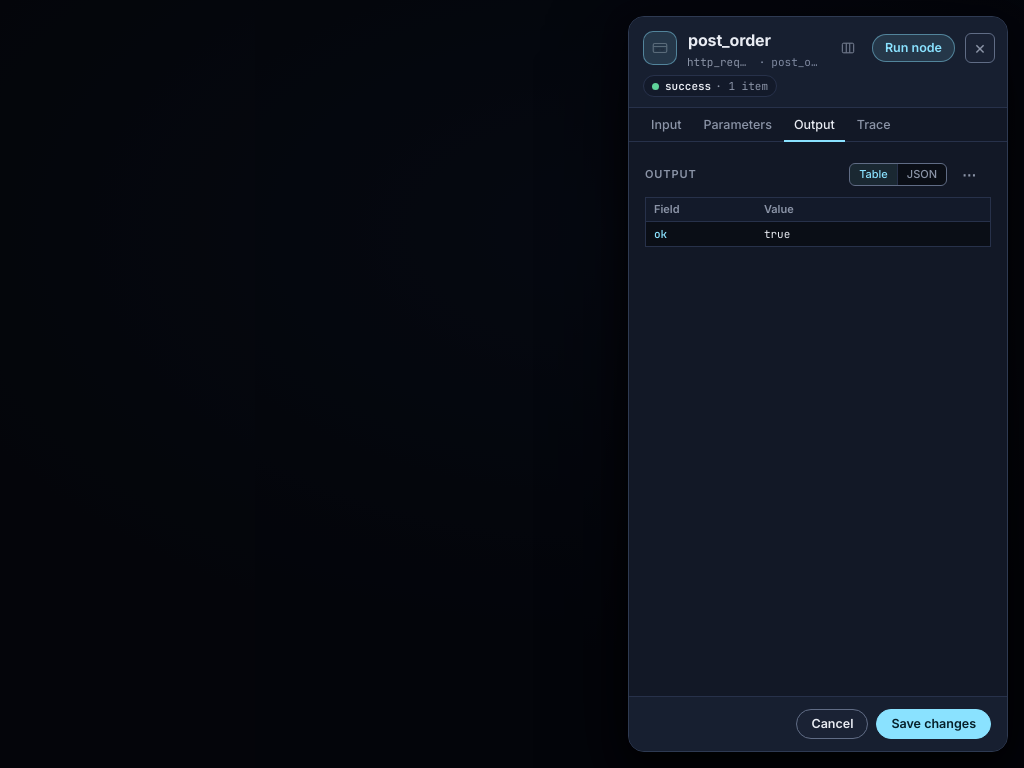
Scenario: missing-value warning in the preview › names the {{ }} the last run had no value for, and says it renders empty
The width and height of the screenshot is (1024, 768).
Click the tab "Parameters" at [738, 125], box left=693, top=108, right=782, bottom=142
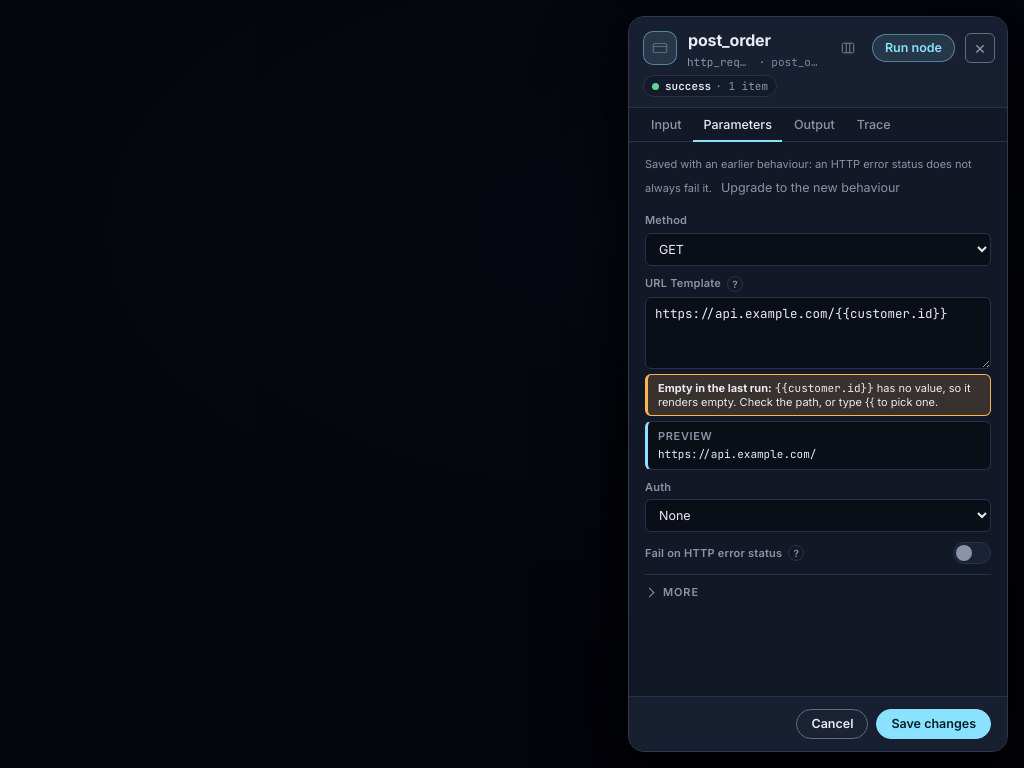
Expected: the message with test id "template-missing-warning" shows "{{customer.id}}", left=775, top=380, right=874, bottom=394
Expected: the message with test id "template-missing-warning" shows "renders empty", left=658, top=380, right=970, bottom=408
